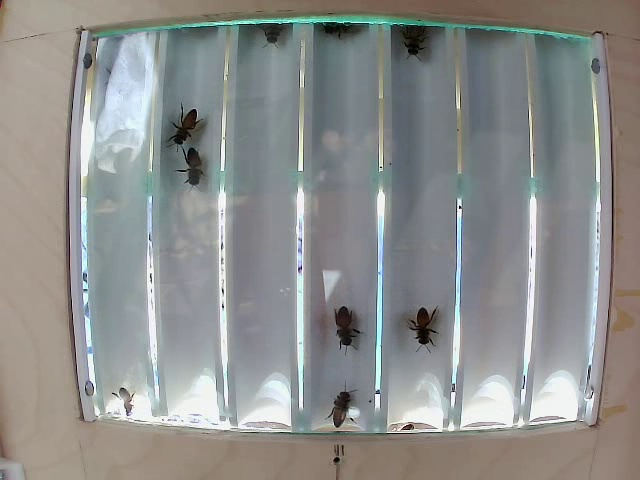bee: (315, 287, 373, 348), (163, 102, 206, 161), (170, 153, 219, 199), (409, 297, 440, 346)
